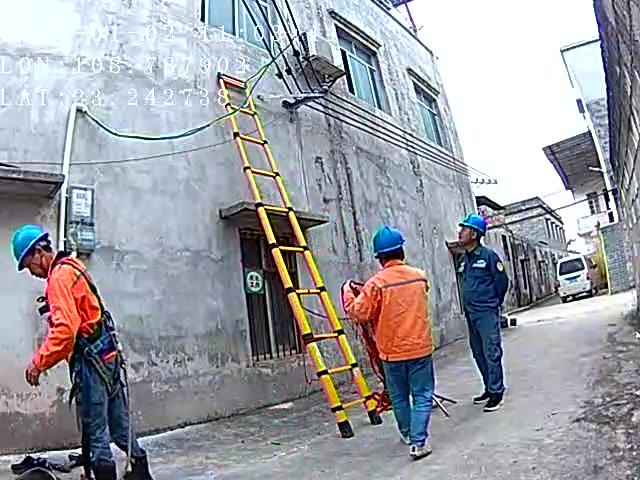downsuit: (67, 334, 143, 457), (383, 356, 435, 444), (470, 314, 505, 393)
halt: (11, 225, 56, 273), (372, 226, 408, 263), (457, 214, 488, 249)
hand: (24, 361, 43, 389)
inear: (26, 248, 55, 274), (464, 228, 481, 247)
person: (8, 223, 140, 478), (345, 226, 440, 455), (450, 213, 513, 408)
shoe: (123, 450, 159, 480)
upsuit: (460, 247, 505, 310)
worksign: (242, 263, 267, 297)
yupsuit: (28, 253, 115, 369), (342, 260, 433, 360)
